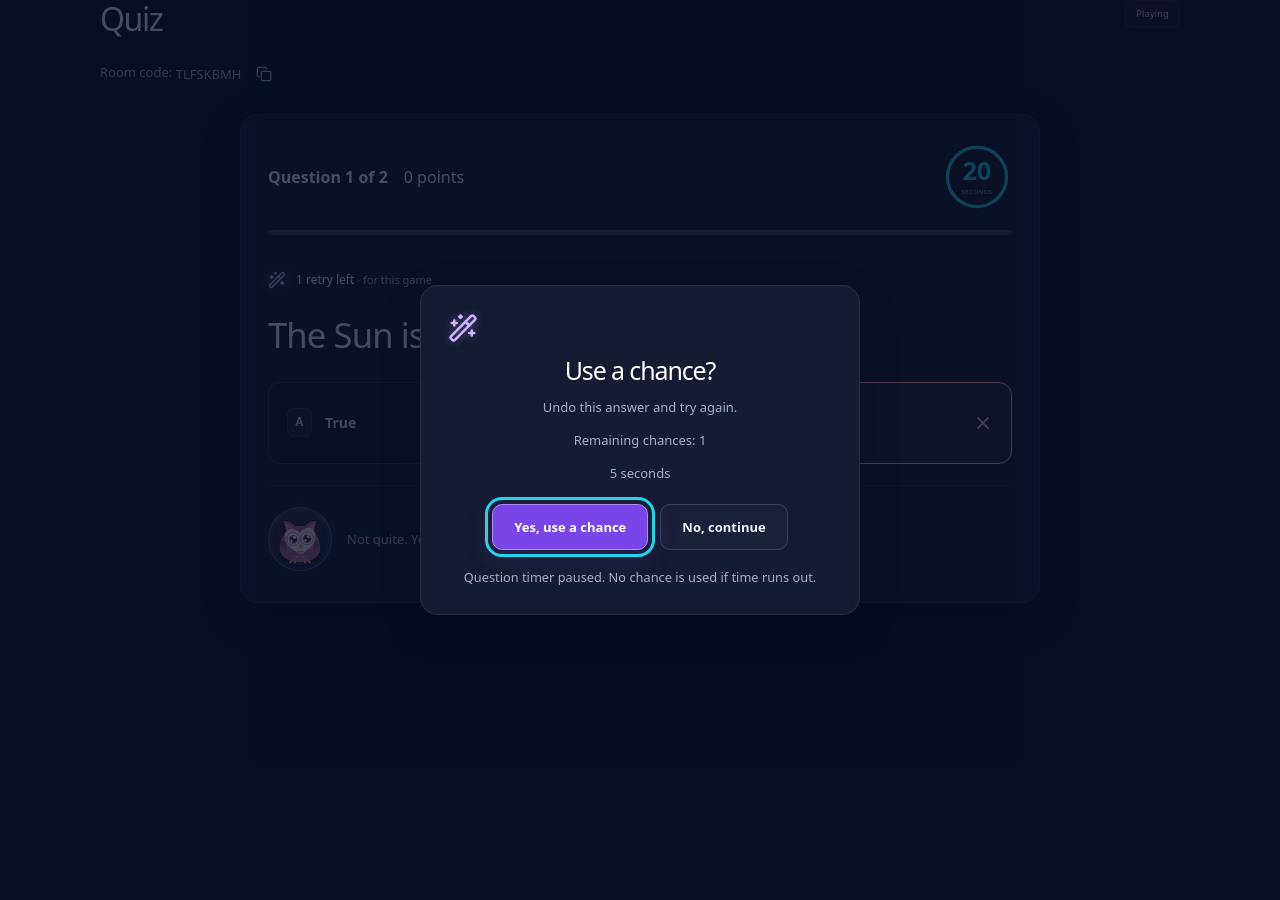
uses the retry response immediately so the last chance stays at zero
Expected: the dialog "Use a chance?" is shown, [420,285,860,615]
Step 1. Click the button "Yes, use a chance" → (570, 527), box [492,504,648,550]
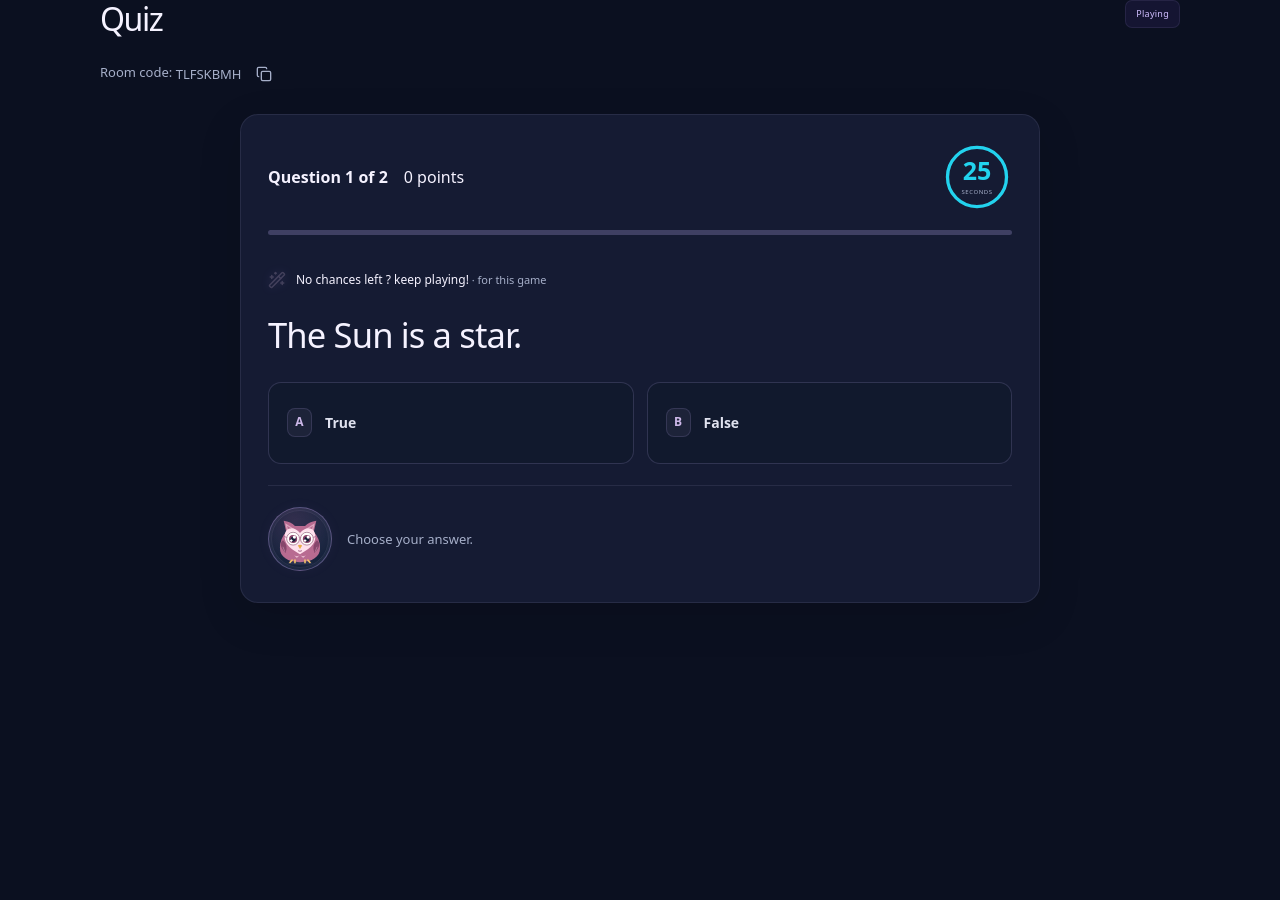
Now the text "No chances left ? keep playing! · for this game" is shown, box [296,271,547,289]
Now the heading "Use a chance?" is gone
